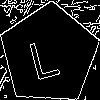L: (24, 29, 62, 81)
